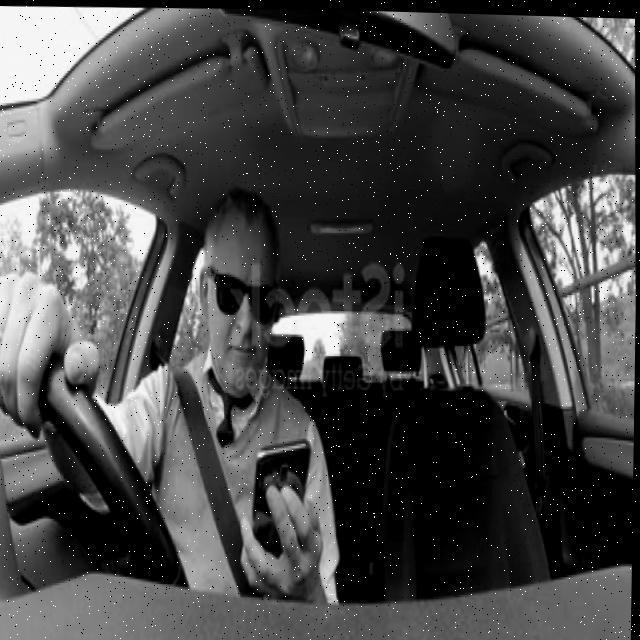PhoneCall: (252, 438, 317, 584)
